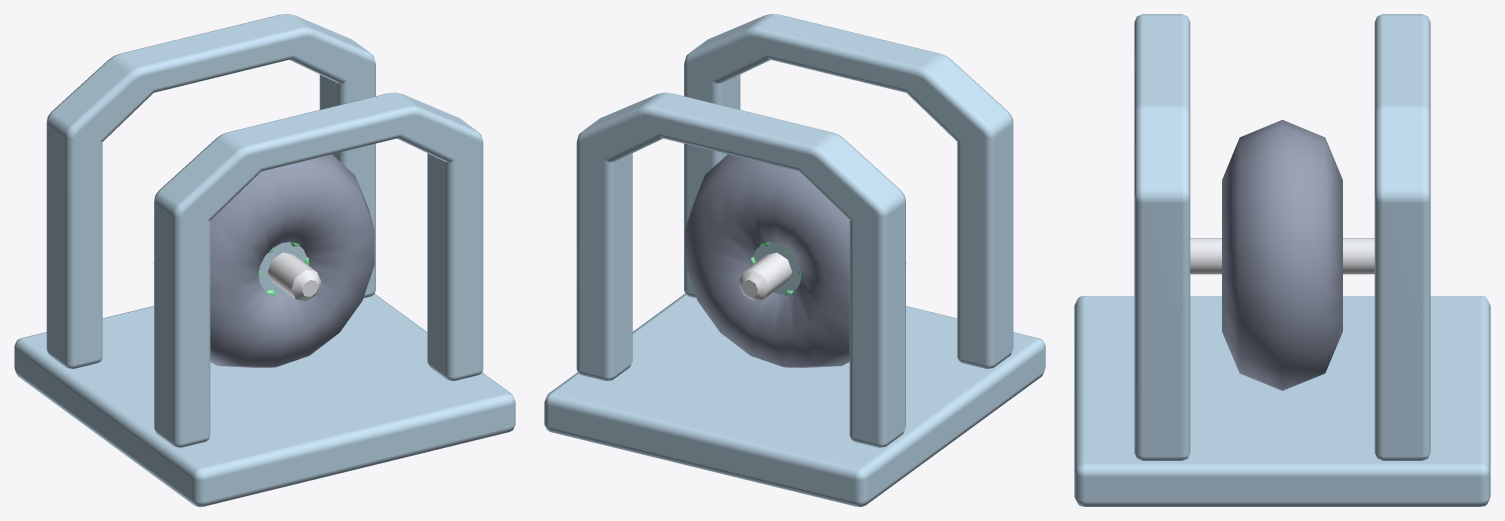
File: R4X_MovementDurabilityBooster.fbx
The picture shows the model from 3 angles, left to right: view 1: azimuth 30°, elevation 25°; view 2: azimuth 150°, elevation 25°; view 3: azimuth 270°, elevation 25°; orthographic projection. The views are drawn at different scales.
Visible parts, largest first — view 1: R4X_MovementDurabilityBooster_Body, R4X_MovementDurabilityBooster_Wheel; view 2: R4X_MovementDurabilityBooster_Body, R4X_MovementDurabilityBooster_Wheel; view 3: R4X_MovementDurabilityBooster_Body, R4X_MovementDurabilityBooster_Wheel.
Part boxes in pixels (box(x1,y1,x2,y2)): R4X_MovementDurabilityBooster_Body: box(14, 14, 515, 506); R4X_MovementDurabilityBooster_Wheel: box(153, 154, 374, 367); R4X_MovementDurabilityBooster_Body: box(544, 14, 1045, 506); R4X_MovementDurabilityBooster_Wheel: box(685, 154, 906, 367); R4X_MovementDurabilityBooster_Body: box(1074, 14, 1490, 506); R4X_MovementDurabilityBooster_Wheel: box(1222, 120, 1342, 390).
Bounding box in the file's own units: 0.52 × 0.5 × 0.52.
